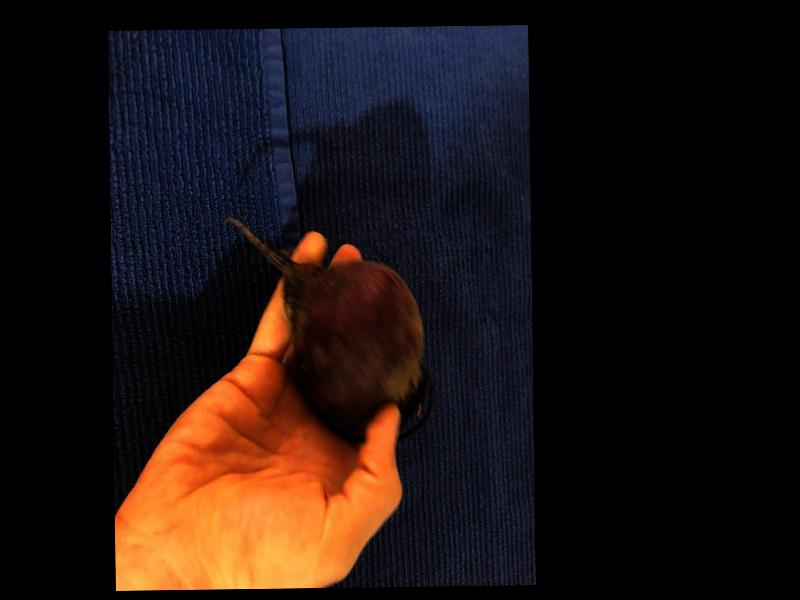Beet: (225, 212, 434, 442)
